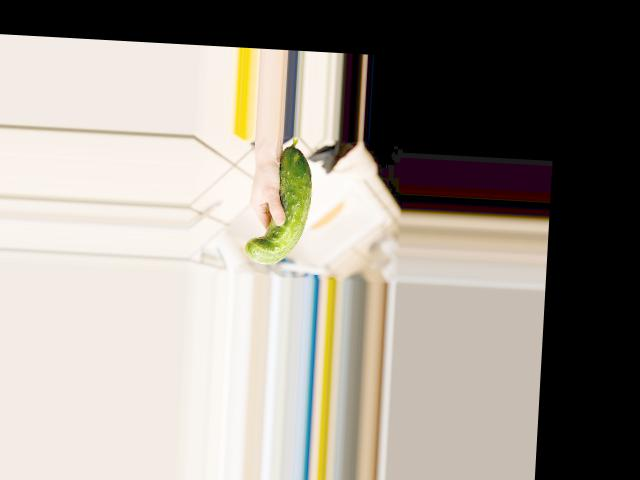cucumber: (244, 135, 315, 266)
